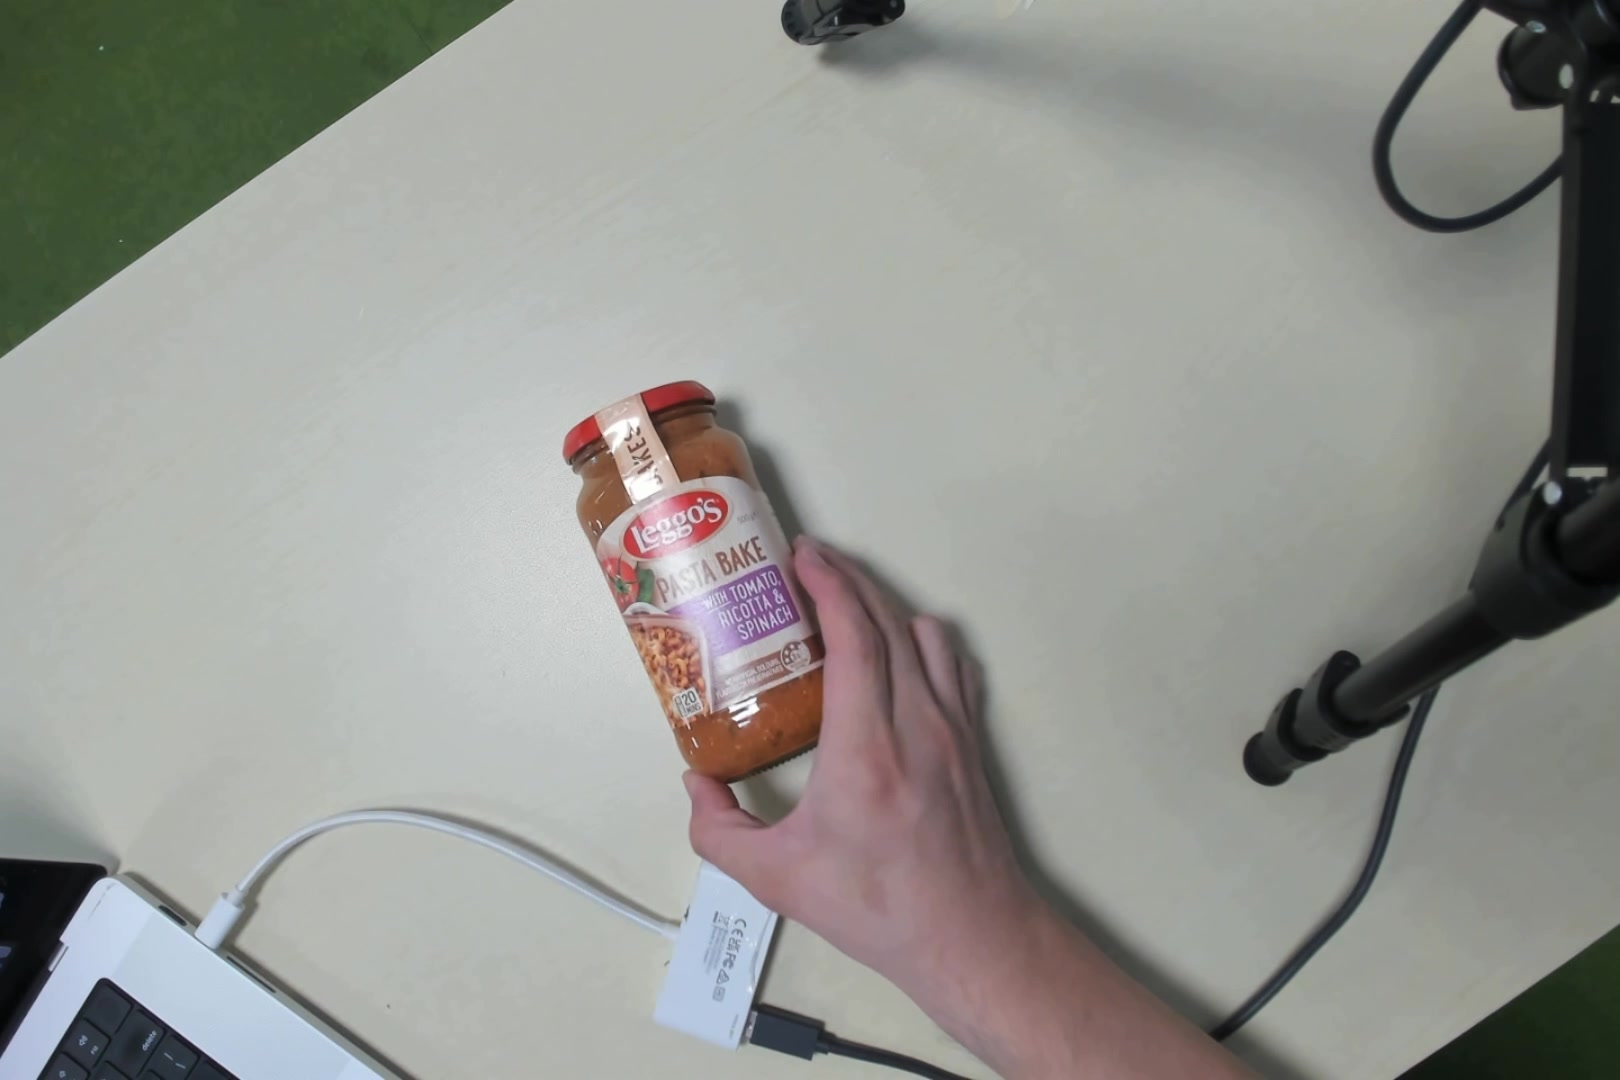Pasta_500-599g_Halal_NonHealthy: (570, 407, 817, 717)
